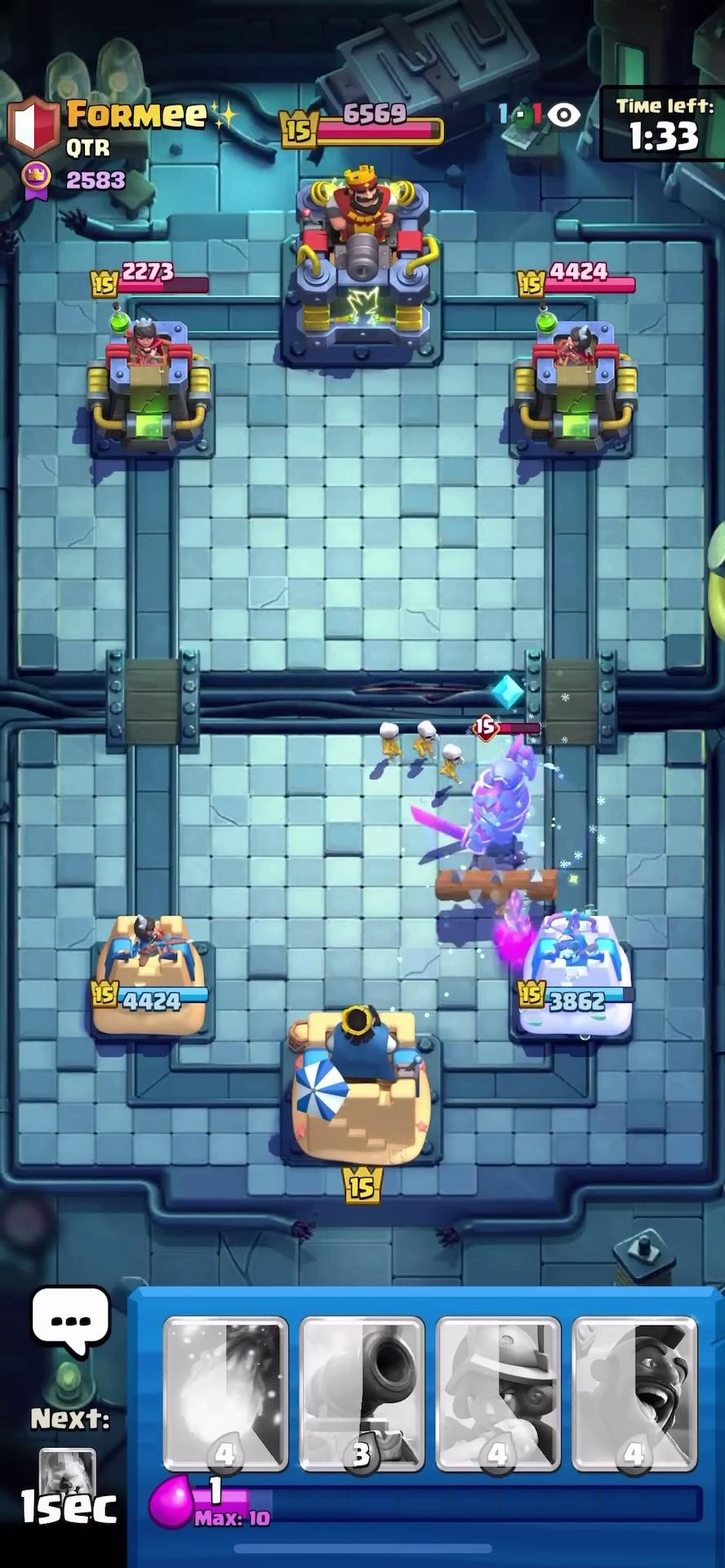log: (433, 860, 574, 909)
skeletons: (367, 717, 478, 788)
